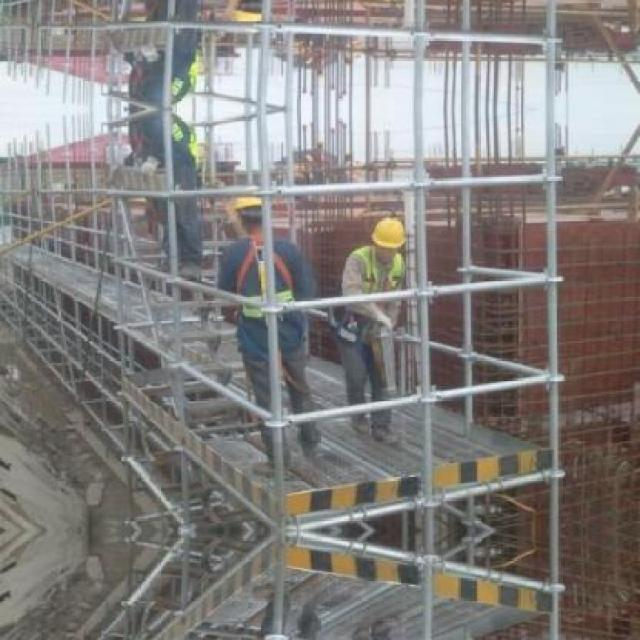helmet: (223, 183, 274, 235), (223, 0, 275, 34), (370, 215, 408, 253)
